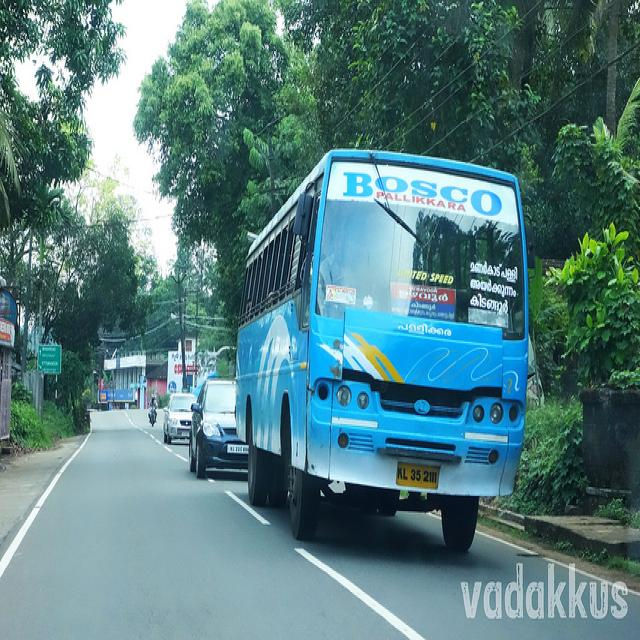motor: (151, 407, 158, 427), (148, 402, 153, 426)
